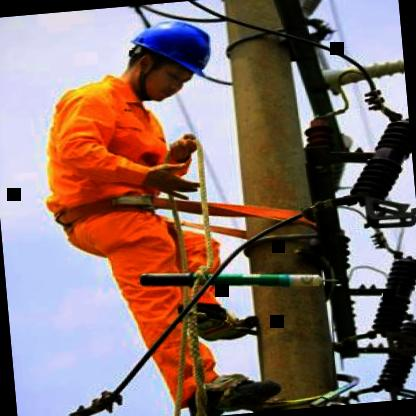helmet: (109, 7, 236, 108)
